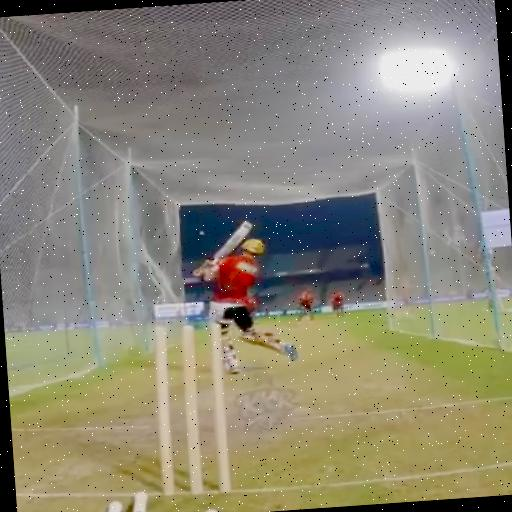Cricket bat: (213, 222, 251, 262)
